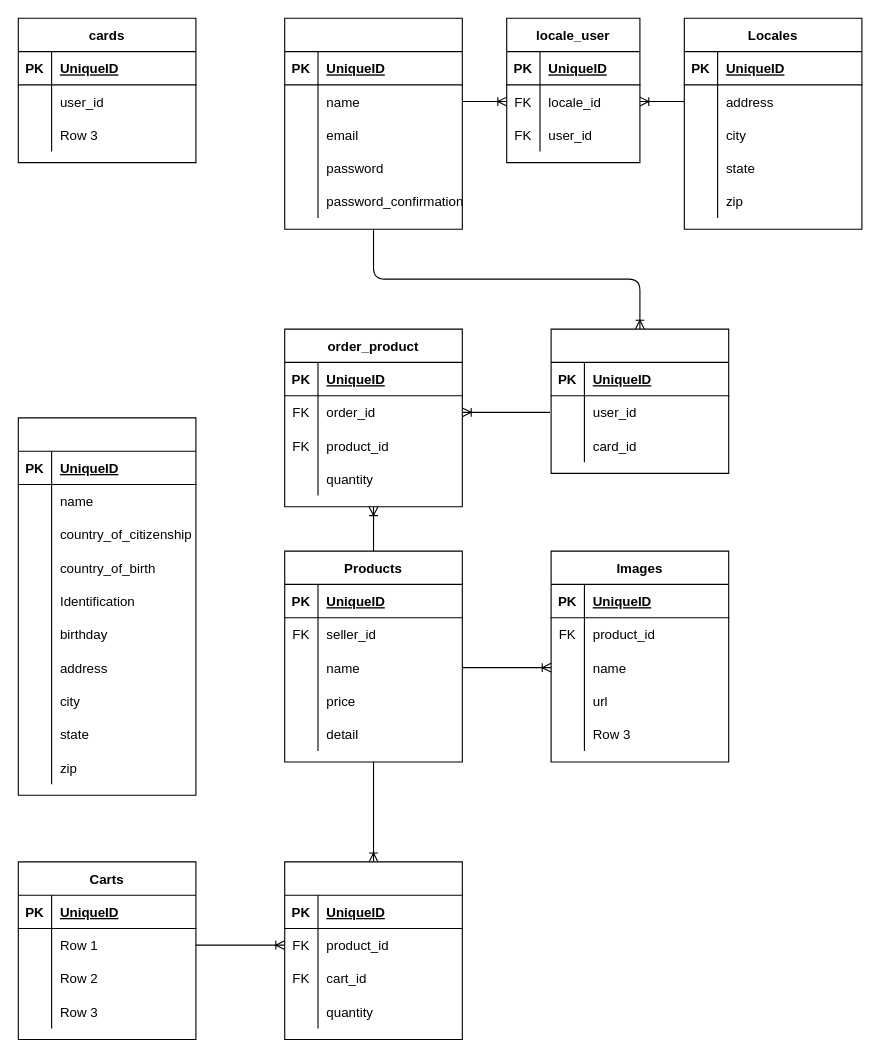
This 880x1058 diagram has some shape labels left out. Each missing label, with the box of its shape:
cart_product: (284, 861, 462, 1040)
Orders: (550, 328, 729, 473)
Sellers: (17, 417, 196, 795)
Users: (284, 17, 462, 229)
